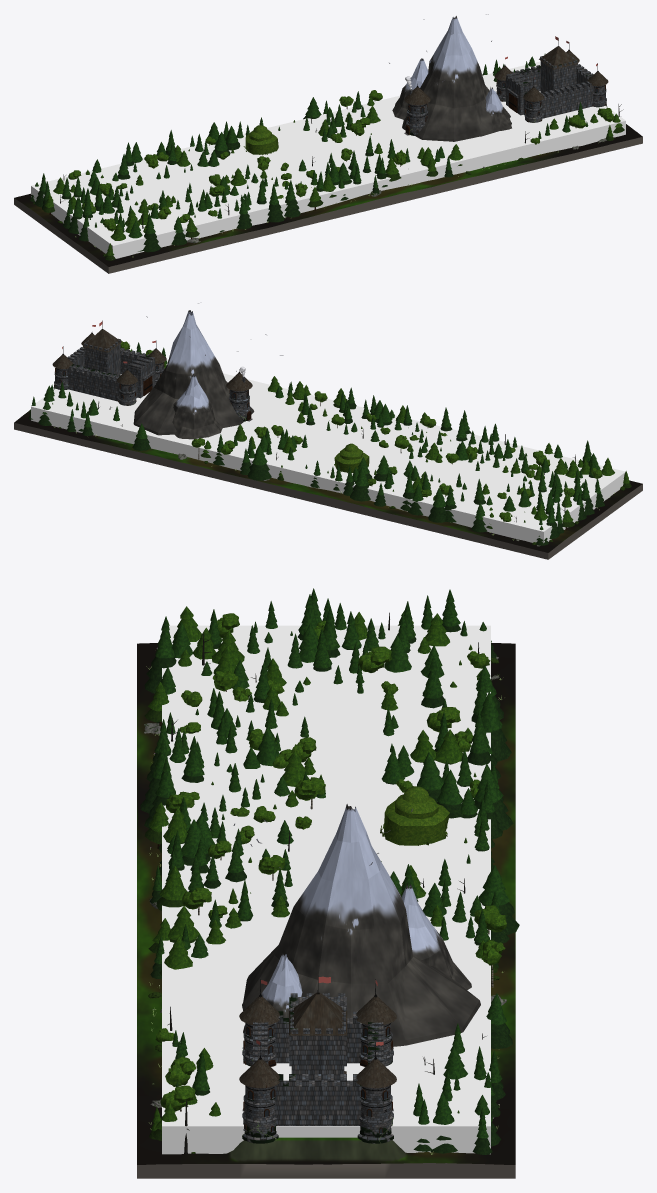
The model's file is forest_watchtower.glb.
3 renders of one model, top to bottom at view 1: azimuth 30°, elevation 25°; view 2: azimuth 150°, elevation 25°; view 3: azimuth 270°, elevation 25°, orthographic. The views are drawn at different scales.
Visible parts, largest first — view 1: Forest_GroundFog, Forest_Terrain, Forest_Mountain, Castle_Stone, Willow, Watchtower_Stone, Castle_KeepRoof, Tree.157, Tree.211; view 2: Forest_GroundFog, Forest_Terrain, Forest_Mountain, Castle_Stone, Willow, Tree.153, Castle_KeepRoof, Watchtower_Stone, Tree.267, Tree.256; view 3: Forest_GroundFog, Forest_Terrain, Forest_Mountain, Castle_Stone, Willow, Castle_KeepRoof, Castle_Tower2_Watchtower_Stone, Castle_Tower3_Watchtower_Stone, Tree.153, Tree.256, Tree.157, Tree.267 (+1 smaller).
Boxes of the visible parts, left/top/right/bottom form: Forest_GroundFog: left=31, top=61, right=625, bottom=258; Forest_Terrain: left=14, top=124, right=642, bottom=273; Forest_Mountain: left=392, top=16, right=511, bottom=141; Castle_Stone: left=505, top=54, right=593, bottom=118; Willow: left=243, top=125, right=278, bottom=155; Watchtower_Stone: left=406, top=104, right=428, bottom=135; Castle_KeepRoof: left=539, top=46, right=577, bottom=69; Tree.157: left=142, top=213, right=160, bottom=252; Tree.211: left=267, top=184, right=284, bottom=222; Forest_GroundFog: left=31, top=352, right=625, bottom=543; Forest_Terrain: left=14, top=410, right=642, bottom=559; Forest_Mountain: left=133, top=310, right=254, bottom=453; Castle_Stone: left=67, top=337, right=155, bottom=401; Willow: left=334, top=443, right=369, bottom=472; Tree.153: left=247, top=444, right=271, bottom=480; Castle_KeepRoof: left=83, top=329, right=121, bottom=352; Watchtower_Stone: left=229, top=390, right=250, bottom=421; Tree.267: left=350, top=467, right=370, bottom=501; Tree.256: left=428, top=488, right=446, bottom=522; Forest_GroundFog: left=162, top=625, right=490, bottom=1154; Forest_Terrain: left=137, top=643, right=515, bottom=1178; Forest_Mountain: left=242, top=804, right=480, bottom=1046; Castle_Stone: left=253, top=993, right=383, bottom=1125; Willow: left=380, top=786, right=449, bottom=845; Castle_KeepRoof: left=289, top=992, right=347, bottom=1035; Castle_Tower2_Watchtower_Stone: left=242, top=1086, right=278, bottom=1143; Castle_Tower3_Watchtower_Stone: left=357, top=1086, right=393, bottom=1143; Tree.153: left=478, top=865, right=519, bottom=934; Tree.256: left=475, top=691, right=511, bottom=761; Tree.157: left=144, top=616, right=176, bottom=693; Tree.267: left=474, top=764, right=513, bottom=830.
Bounding box in the file's own units: 150 × 32.95 × 46.51.
Materials: 28 (17 with a texture image).
